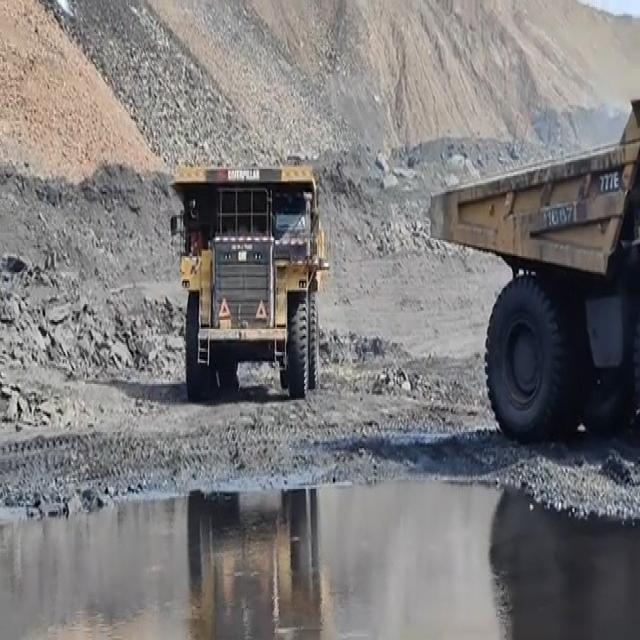dump_truck: (423, 102, 640, 440), (166, 166, 326, 396)
